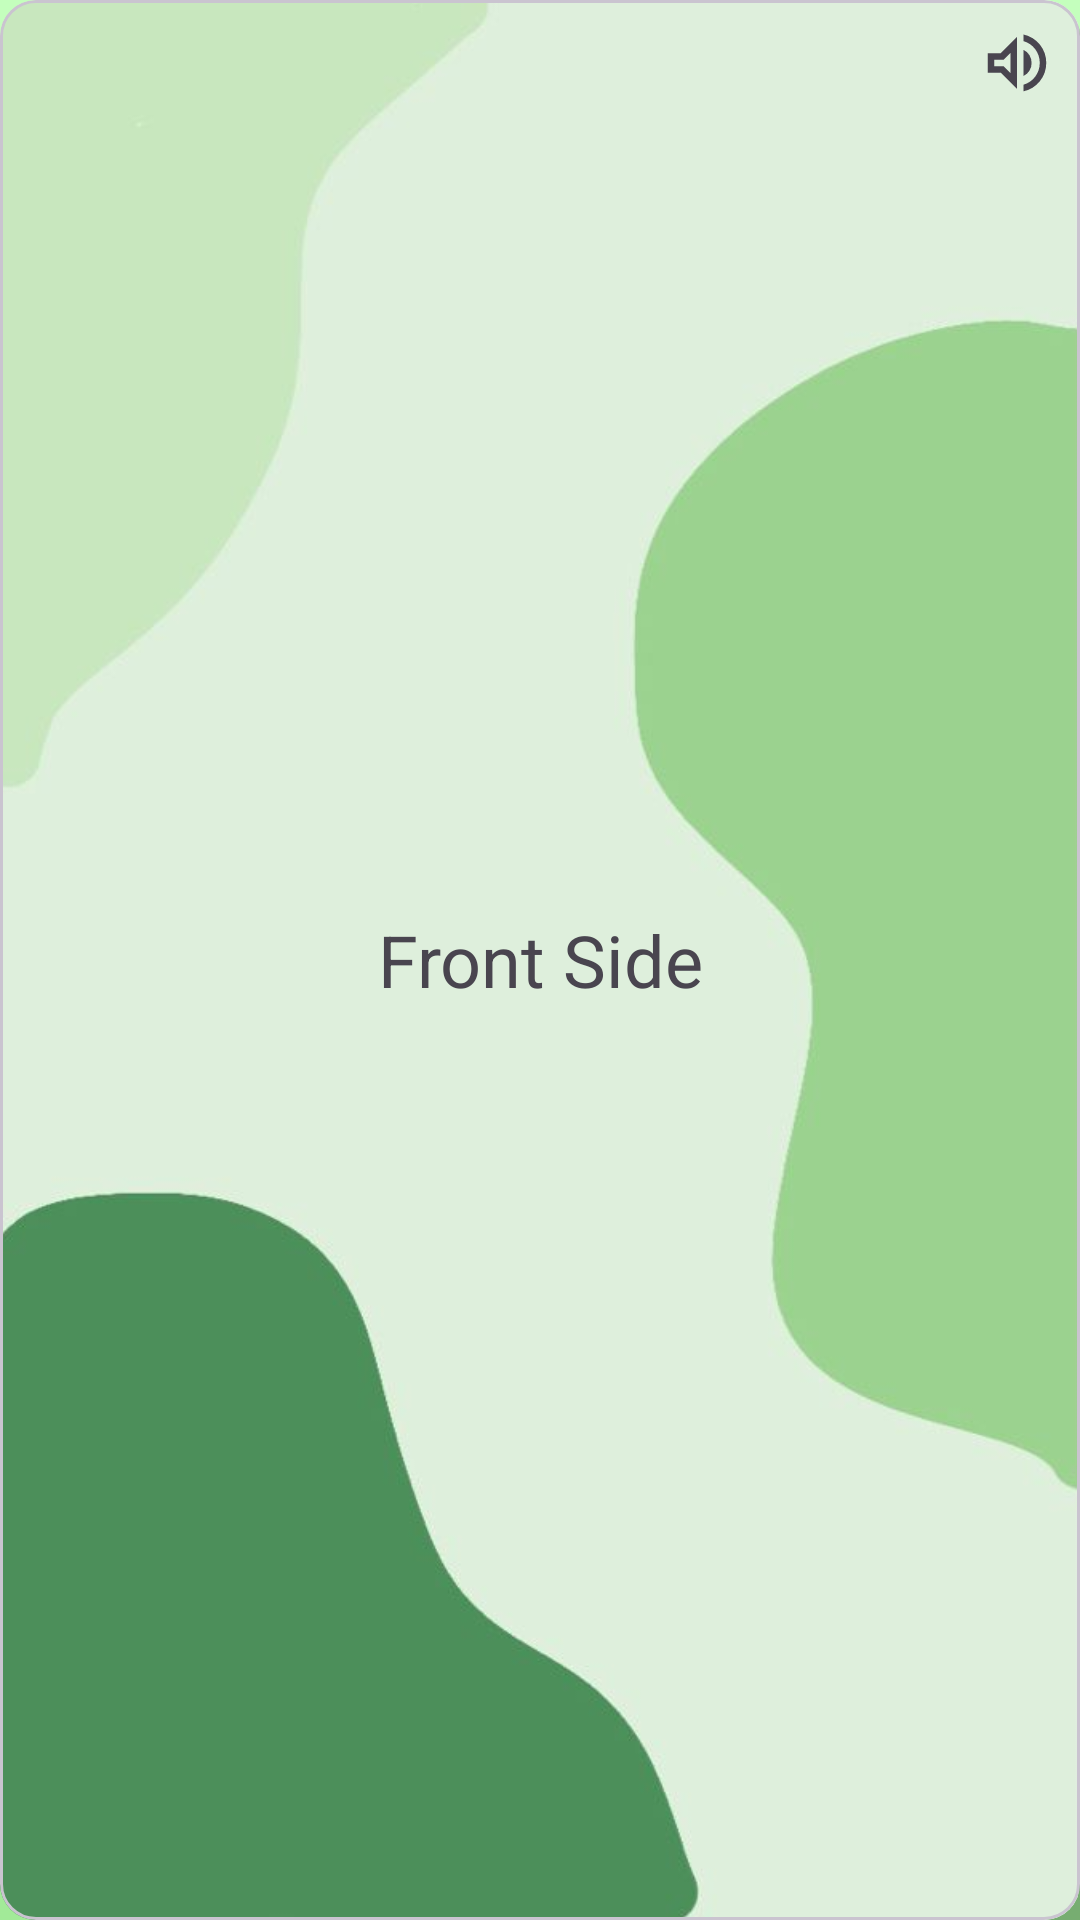

Screen size 1080w x 1920h. Icon name, then its box in pixels as (x1, y1, x2, y2):
audio: (987, 34, 1047, 91)
